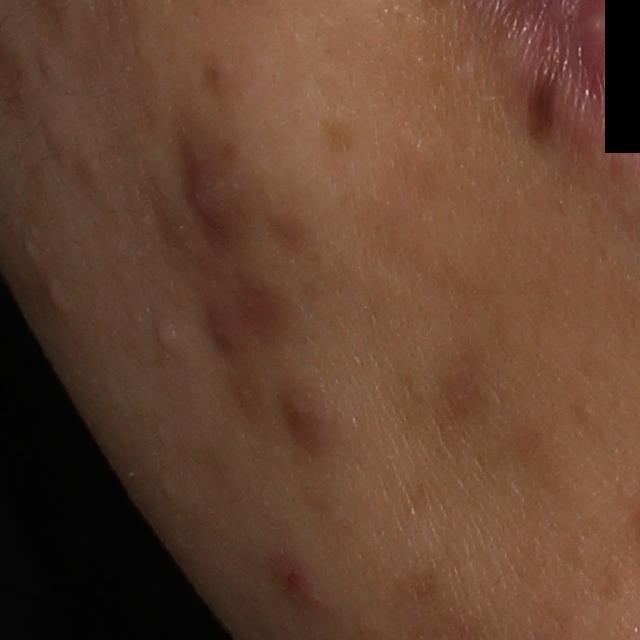comedo: (154, 323, 183, 361)
nevus: (519, 67, 567, 142)
papule: (268, 555, 317, 605), (279, 394, 323, 445)
